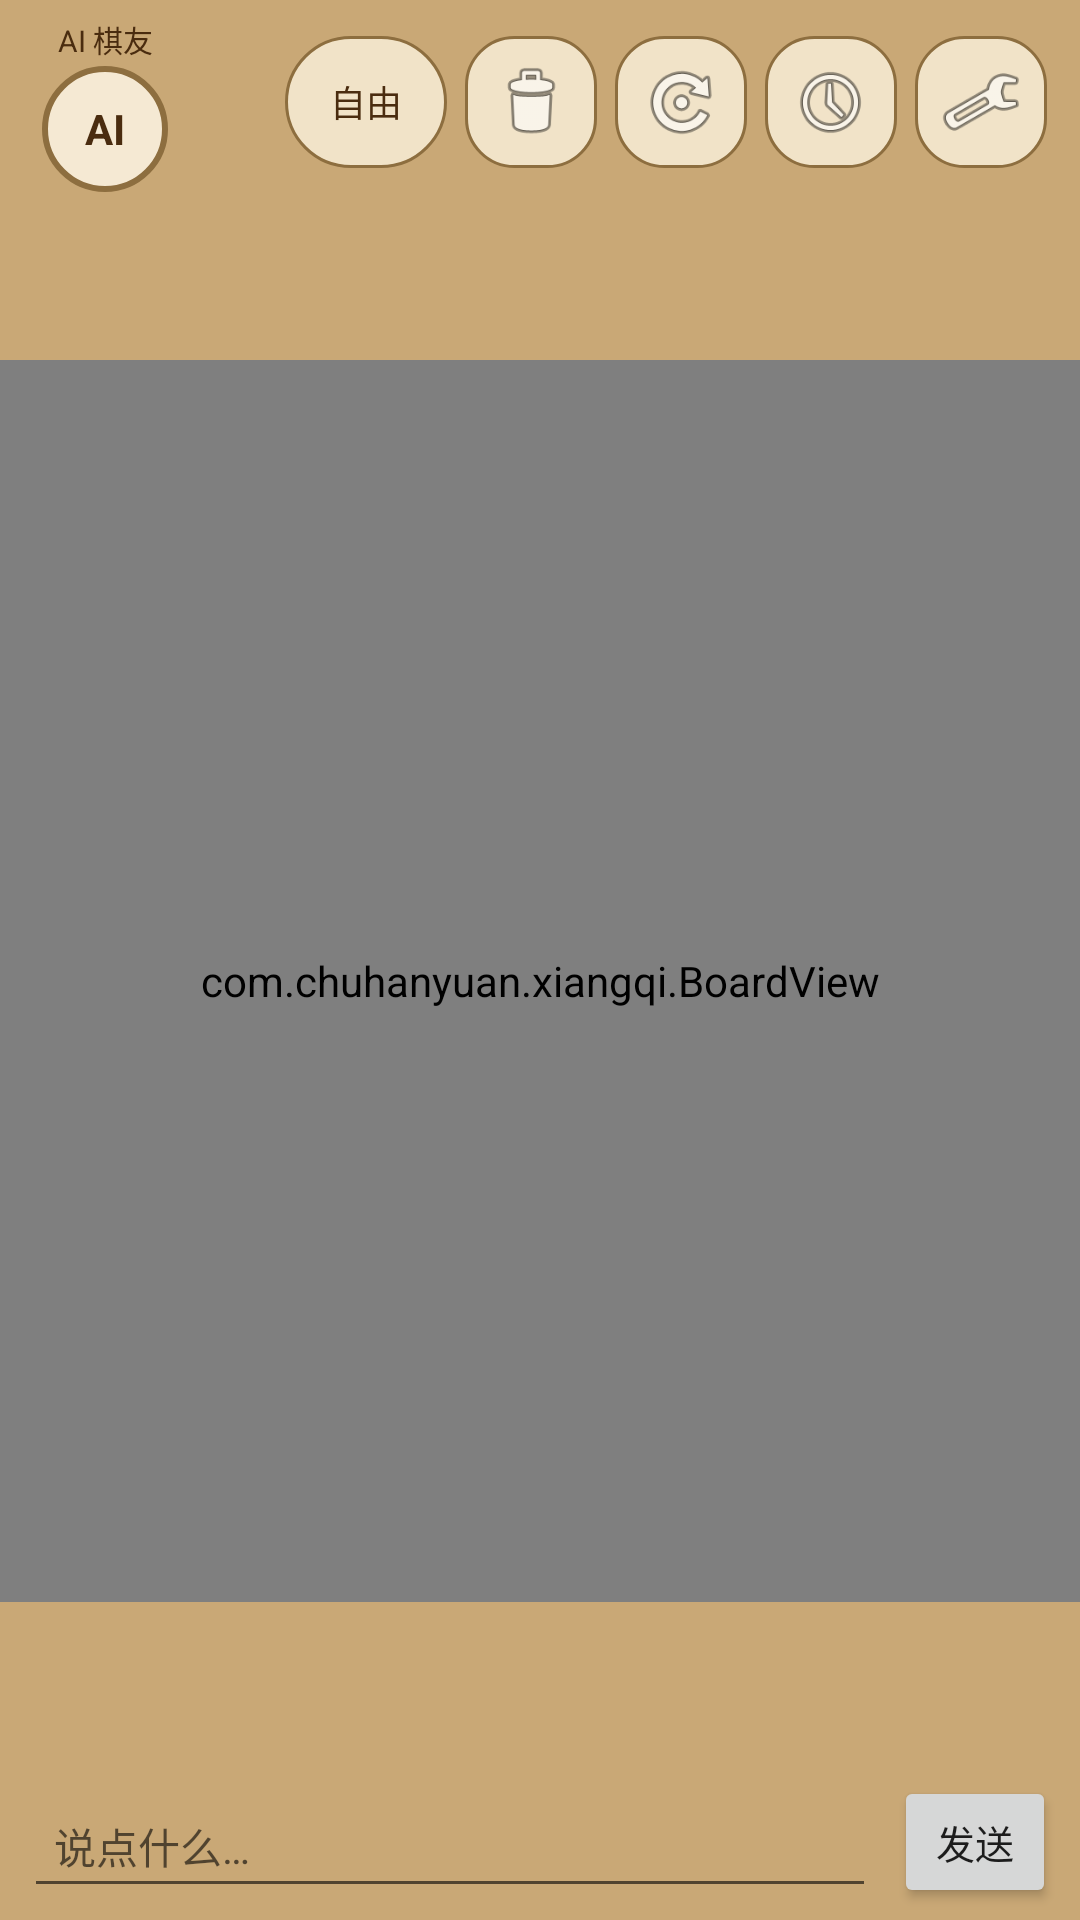

Screen size 1080w x 1920h. Icon name, then its center in pixels as [x,y]:
清空棋盘: [531,102]
聊天记录: [831,102]
设置: [981,102]
重新开局: [681,102]
